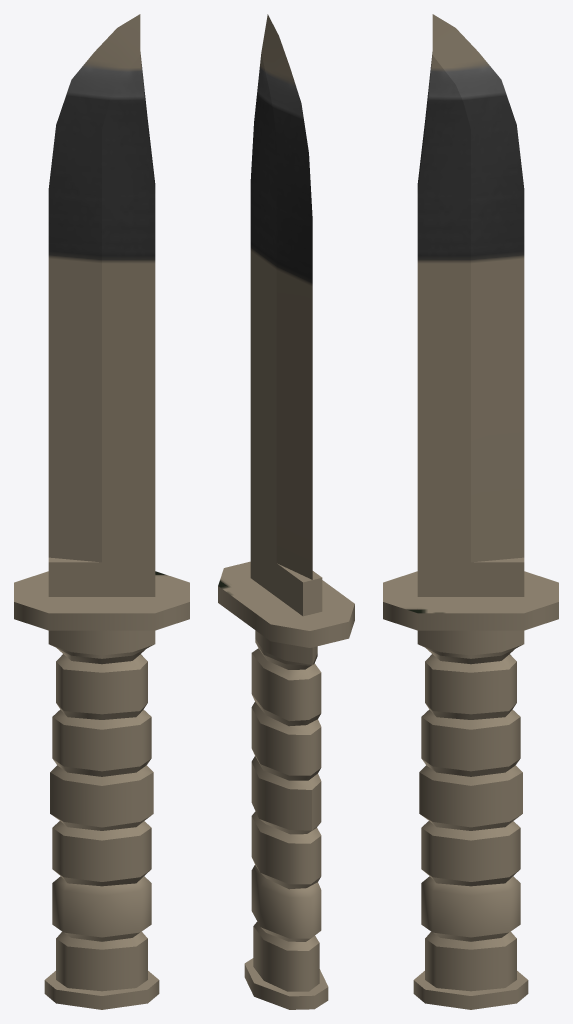
Rendered from MilitaryKnife.fbx.
3 renders of one model, left to right at view 1: azimuth 90°, elevation 25°; view 2: azimuth 210°, elevation 25°; view 3: azimuth 270°, elevation 25°, orthographic.
Visible parts, largest first — view 1: MilitaryKnife; view 2: MilitaryKnife; view 3: MilitaryKnife.
Boxes of the visible parts, left/top/right/bottom form: MilitaryKnife: left=14, top=14, right=189, bottom=1009; MilitaryKnife: left=218, top=14, right=354, bottom=1009; MilitaryKnife: left=383, top=14, right=558, bottom=1009.
Bounding box in the file's own units: 0.026 × 0.283 × 0.046.
